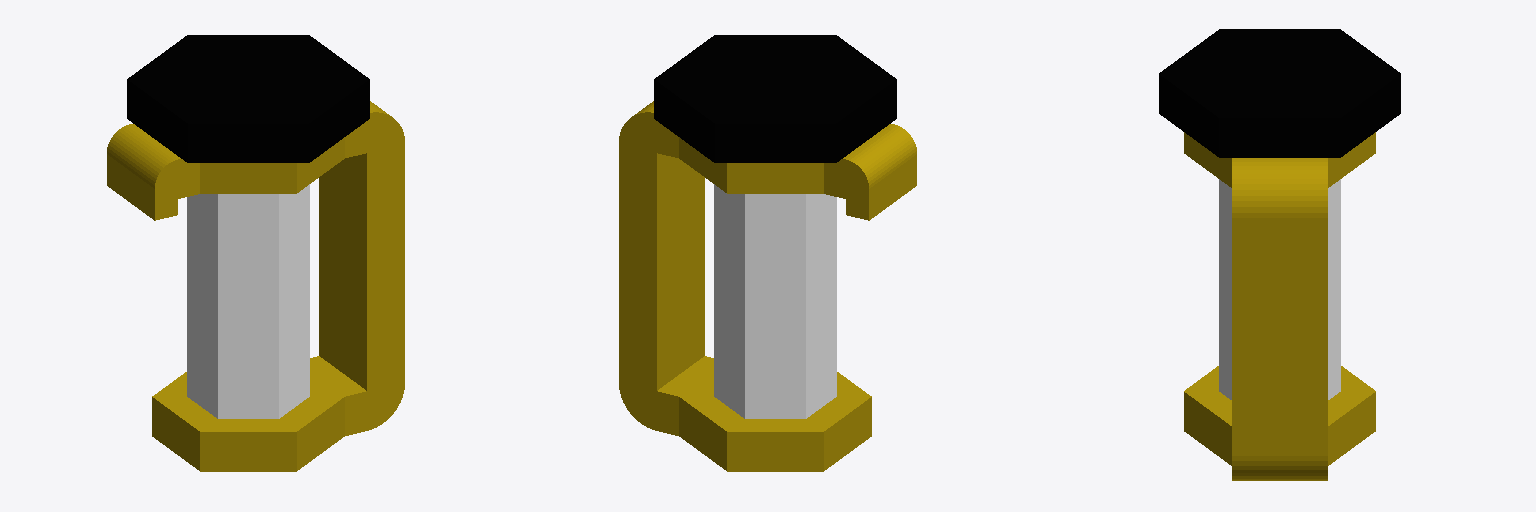
File: Lamp.obj
3 renders of one model, left to right at view 1: azimuth 30°, elevation 25°; view 2: azimuth 150°, elevation 25°; view 3: azimuth 270°, elevation 25°, orthographic.
Visible parts, largest first — view 1: mergedBlocks; view 2: mergedBlocks; view 3: mergedBlocks.
Part boxes in pixels (left/top/right/bottom): mergedBlocks: left=107, top=35, right=404, bottom=471; mergedBlocks: left=619, top=35, right=916, bottom=471; mergedBlocks: left=1159, top=29, right=1400, bottom=480.
Size of the model in its own units: 0.3303 by 0.45 by 0.2772.